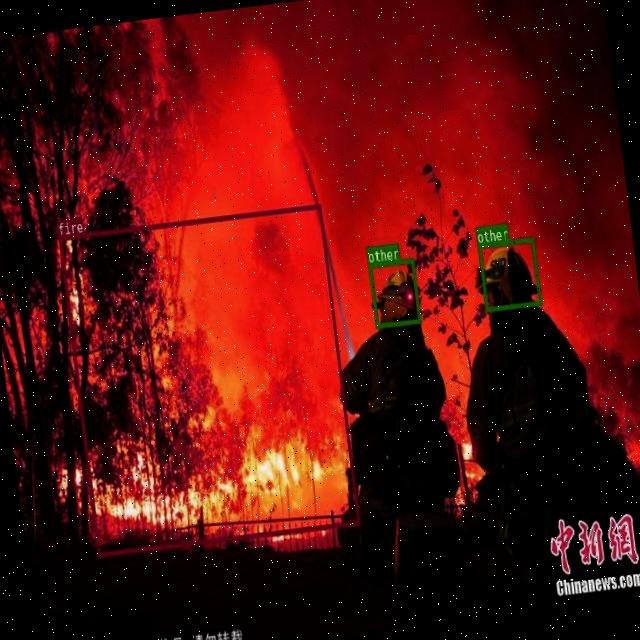fire: (58, 203, 359, 556)
